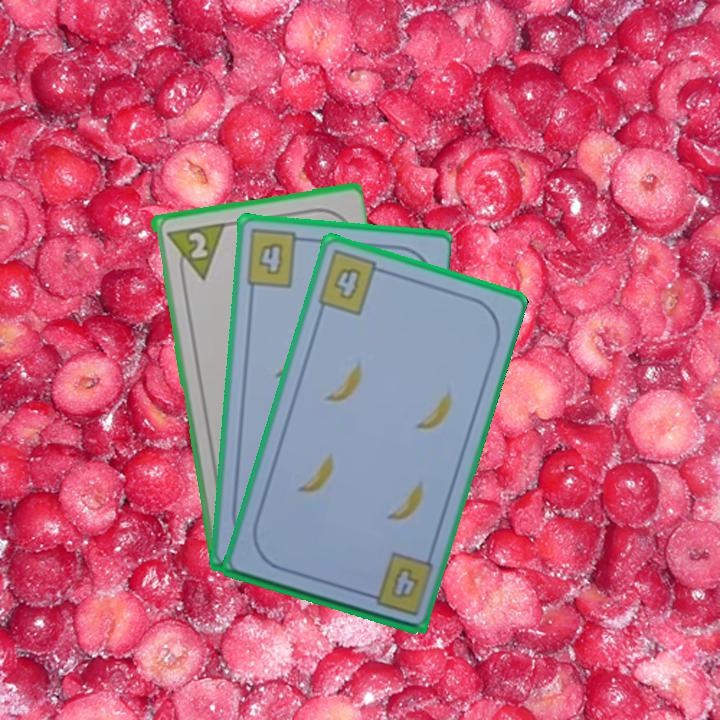2p: (162, 219, 226, 285)
4b: (313, 246, 389, 318), (242, 226, 309, 290), (386, 563, 421, 601)
